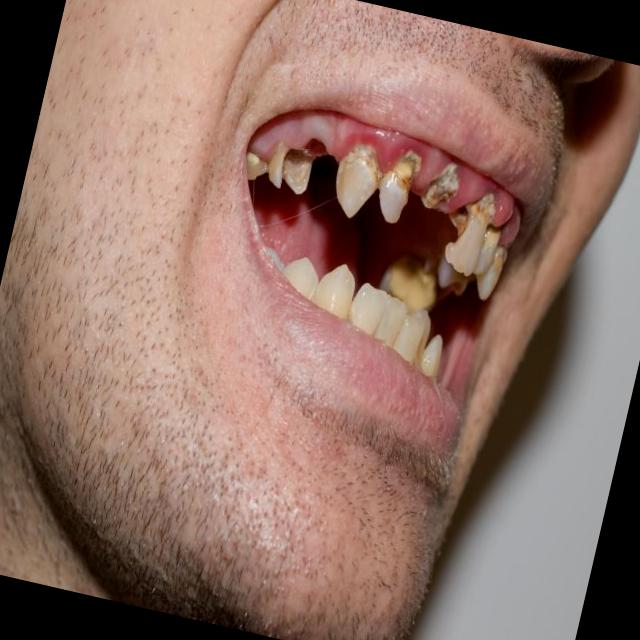caries: (427, 185, 496, 276), (316, 130, 383, 221), (374, 240, 445, 312), (367, 144, 423, 232), (260, 134, 318, 200), (463, 209, 509, 288), (417, 154, 464, 217), (472, 228, 511, 297), (240, 144, 277, 185)
